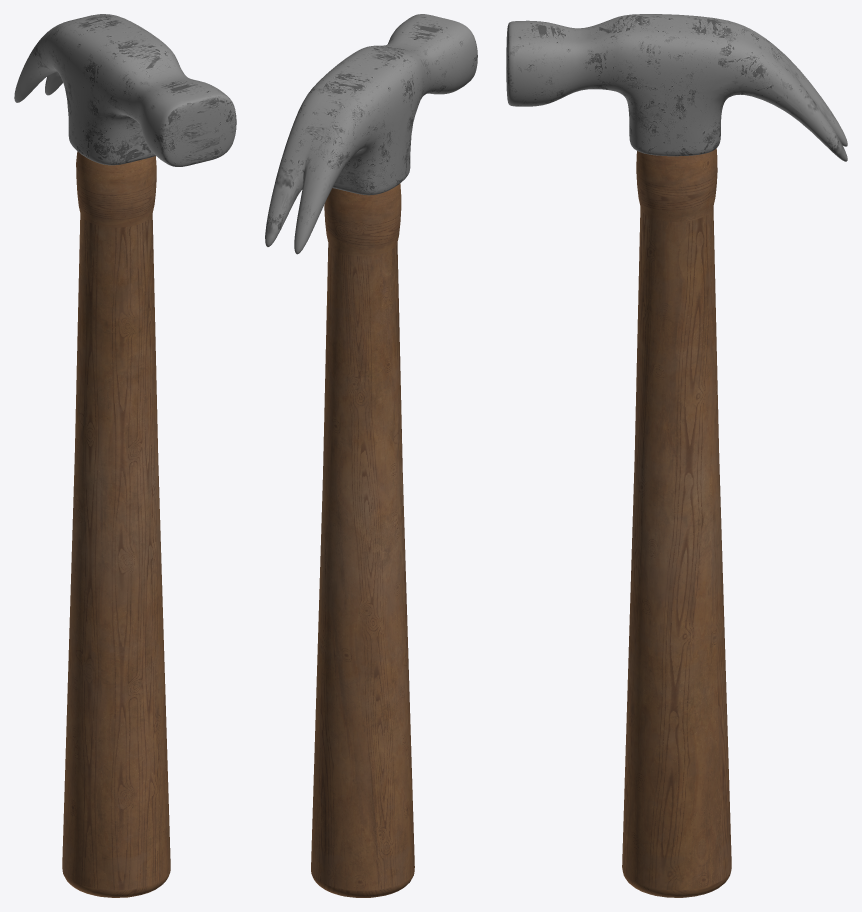
Rendered from hammer.fbx.
3 renders of one model, left to right at view 1: azimuth 30°, elevation 25°; view 2: azimuth 150°, elevation 25°; view 3: azimuth 270°, elevation 25°, orthographic. The views are drawn at different scales.
Parts seen in each view (by area): view 1: Cylinder; view 2: Cylinder; view 3: Cylinder.
Boxes of the visible parts, bbox=[...] form: Cylinder: bbox=[14, 14, 236, 897]; Cylinder: bbox=[265, 14, 477, 897]; Cylinder: bbox=[506, 14, 847, 897].
Bounding box in the file's own units: 48.42 × 417 × 151.
Materials: 1 (1 with a texture image).
